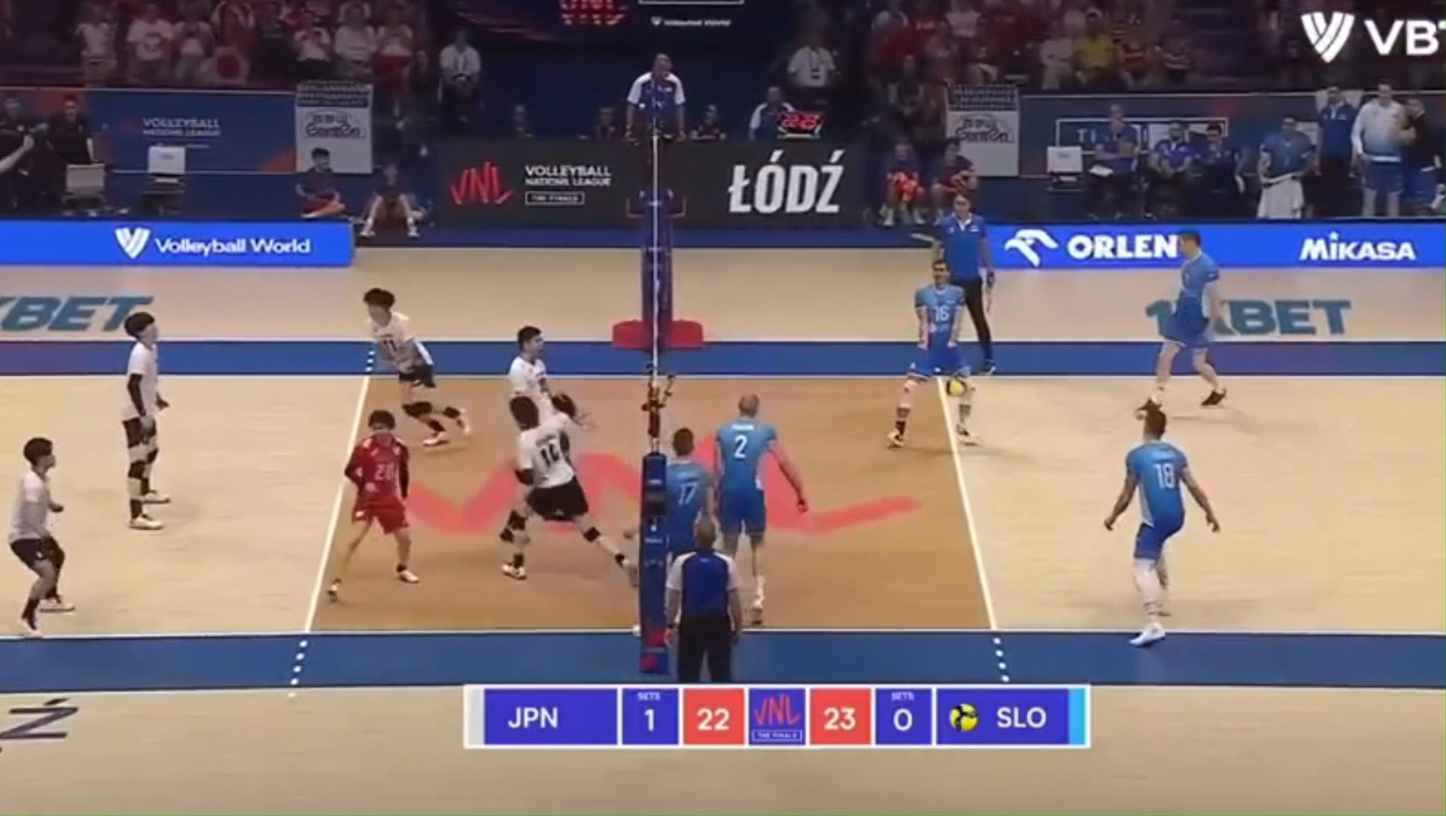ball: (946, 377, 968, 397)
player: (1103, 400, 1219, 647), (714, 394, 807, 623), (1137, 230, 1226, 413), (888, 264, 977, 447), (665, 428, 712, 555)
player 1: (499, 394, 637, 586), (327, 410, 419, 600), (363, 287, 471, 447), (7, 437, 72, 636), (122, 311, 169, 530), (508, 326, 550, 413)
referee: (666, 515, 743, 683), (933, 195, 995, 372), (625, 54, 686, 218)
